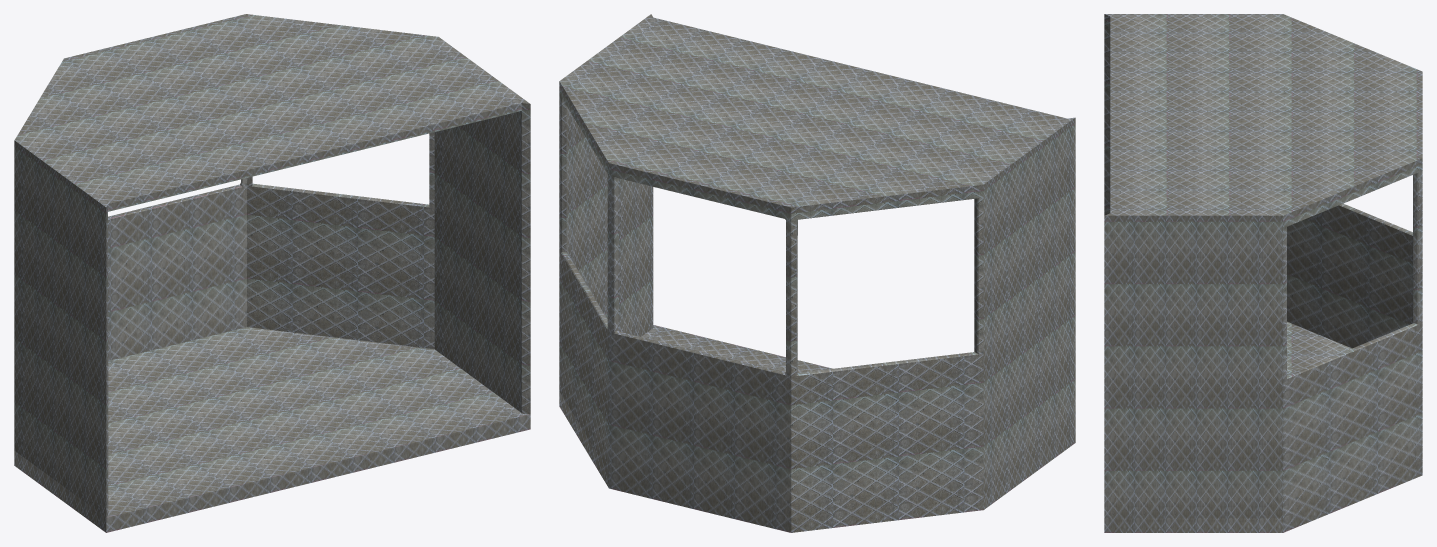
Rendered from controlroom.FBX.
The picture shows the model from 3 angles, left to right: view 1: azimuth 30°, elevation 25°; view 2: azimuth 150°, elevation 25°; view 3: azimuth 270°, elevation 25°; orthographic projection. The views are drawn at different scales.
Parts seen in each view (by area): view 1: Box001; view 2: Box001; view 3: Box001.
Boxes of the visible parts, x1,y1,x2,y2 form: Box001: (14,14,530,532); Box001: (559,14,1075,532); Box001: (1104,14,1422,532).
Size of the model in its own units: 3 by 2.2 by 2.
Materials: 1 (1 with a texture image).
